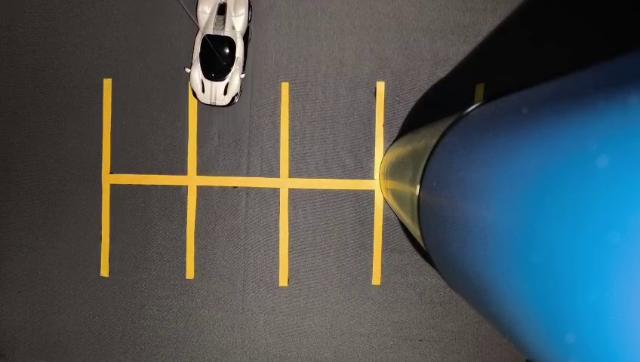toy_car: (172, 0, 282, 118)
